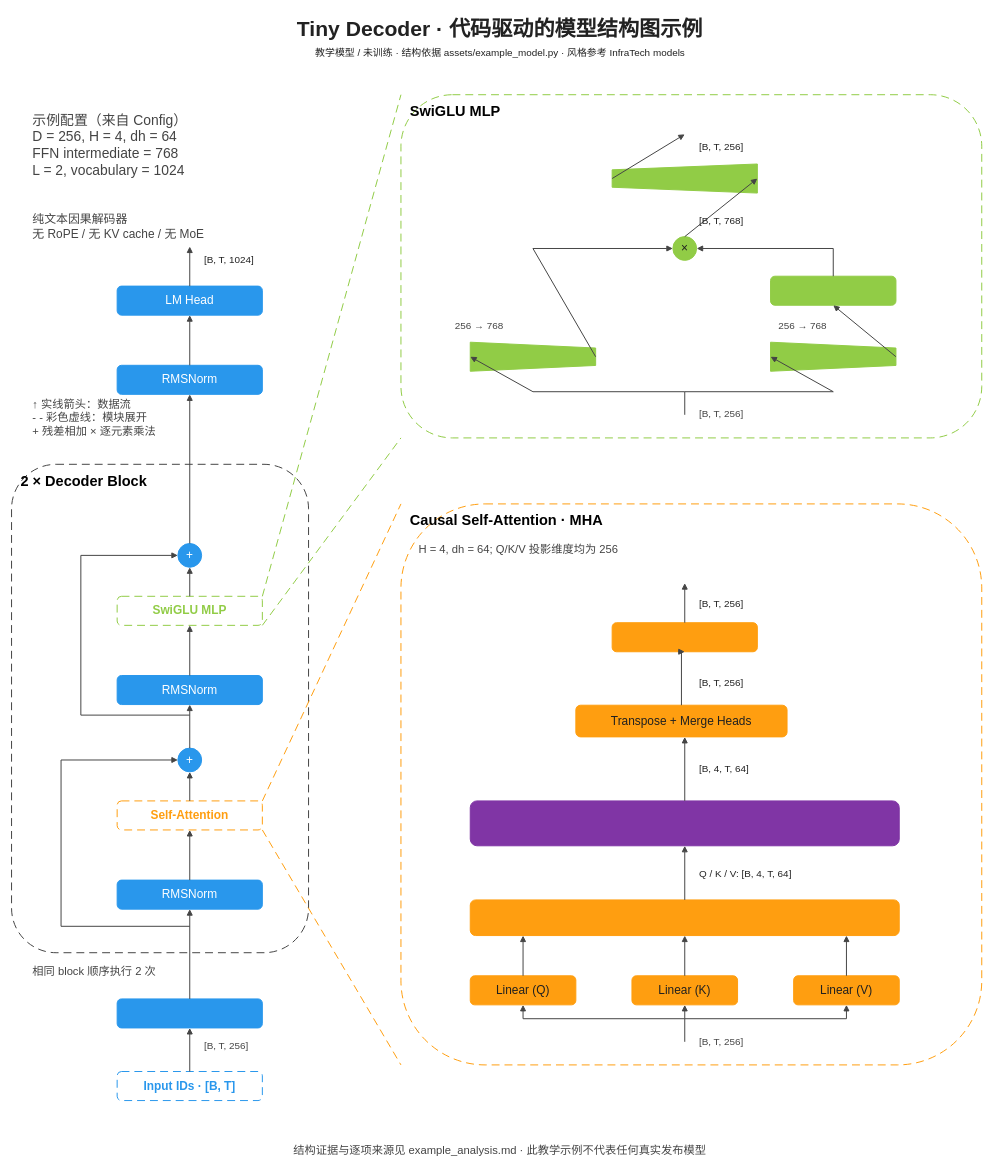
This 994x1168 diagram has some shape labels left out. Here are the shapes that lost their labels. From the top down, the centre of each, then its label:
point 684,178: Linear (down)
point 833,290: SiLU
point 532,356: Linear (up)
point 833,356: Linear (gate)
point 684,637: Linear (output)
point 684,823: SDPA · causal mask softmax(QKᵀ / √64 + mask) V
point 684,917: Reshape + Transpose (Q, K, V)
point 189,1013: Embedding
